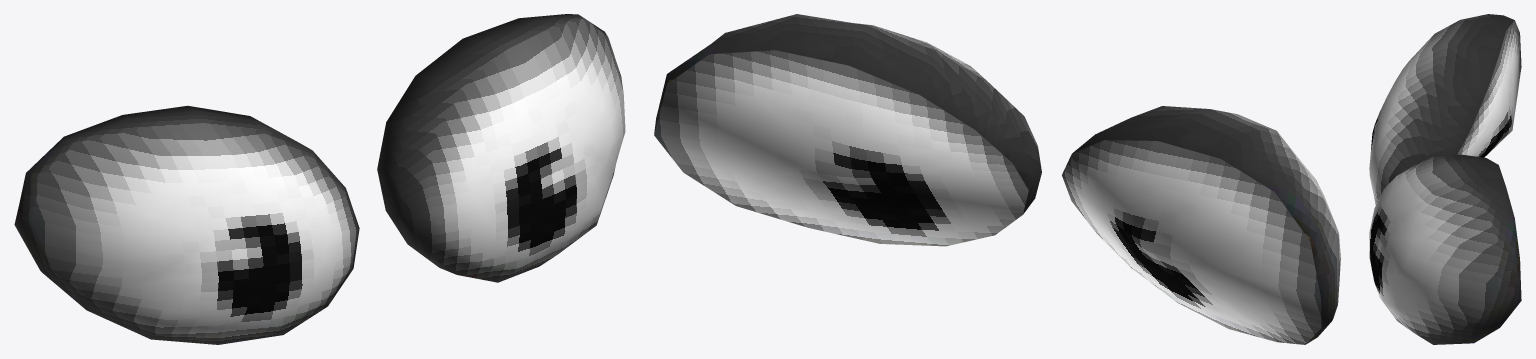
The model's file is m_e_hwaung.FBX.
3 renders of one model, left to right at view 1: azimuth 30°, elevation 25°; view 2: azimuth 150°, elevation 25°; view 3: azimuth 270°, elevation 25°, orthographic. The views are drawn at different scales.
Parts seen in each view (by area): view 1: Object01; view 2: Object01; view 3: Object01.
Boxes of the visible parts, box(x1,y1,x2,y2) form: Object01: box(14, 14, 625, 344); Object01: box(654, 14, 1340, 344); Object01: box(1369, 14, 1521, 344).
Bounding box in the file's own units: 5.6 × 1.85 × 1.52.
